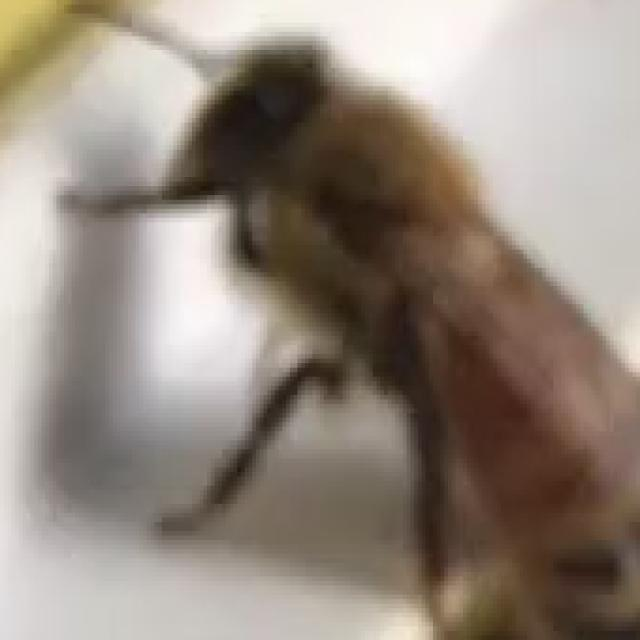honeybee: (146, 26, 640, 640)
